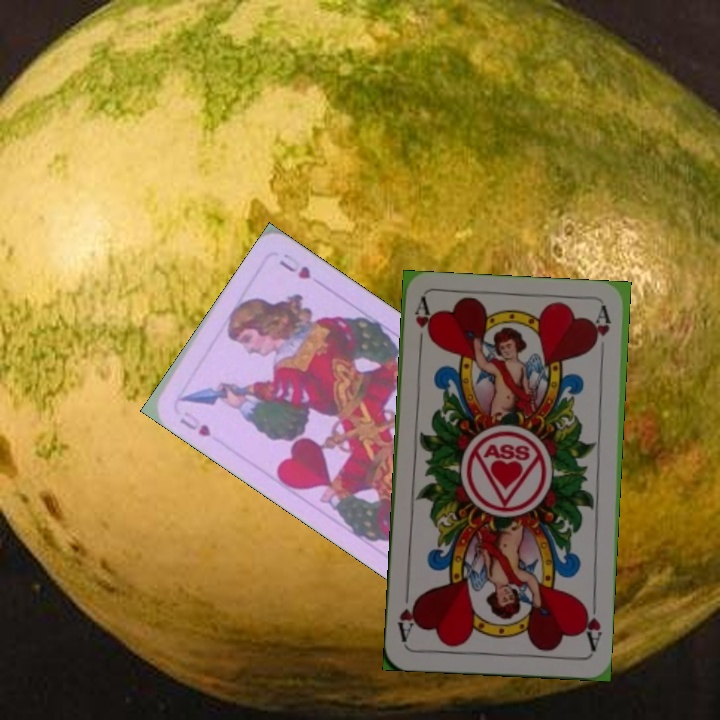HA: (577, 595, 605, 654), (411, 296, 435, 355)
HU: (175, 414, 215, 440)
